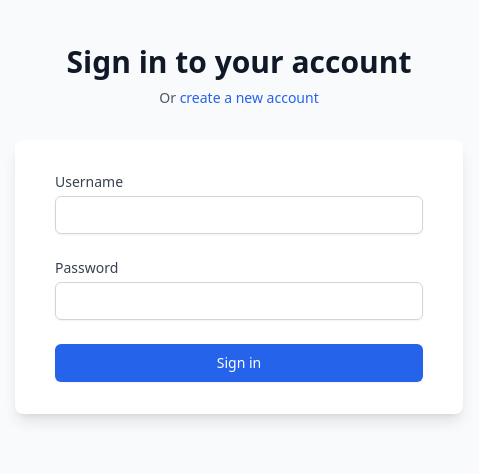
Test case: LoginPage › should handle rate limiting errors
Type "testuser" into the field labelled "Username" at x=239, y=215, box [55,196,423,234]
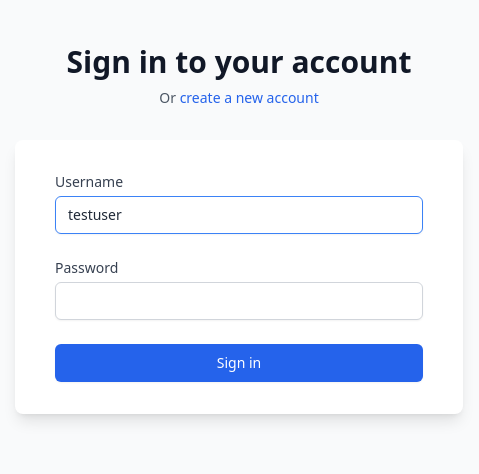
Type "password123" into the password field labelled "Password" at x=239, y=301, box [55,282,423,320]
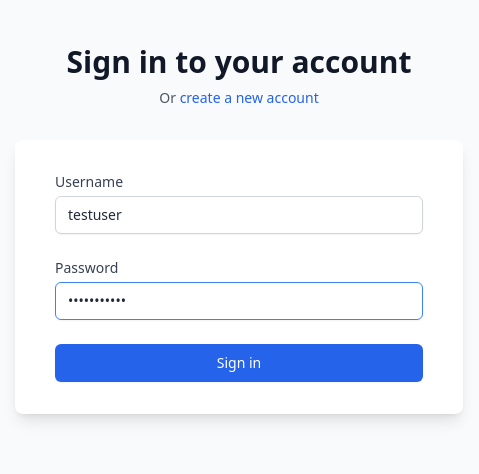
Click the button "Sign in" at x=239, y=363, box [55,344,423,382]
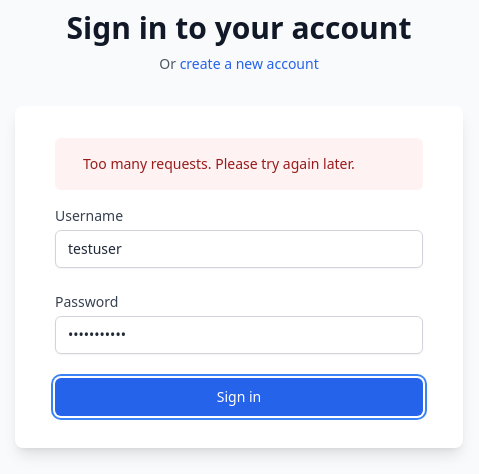
expect the text "Too many requests. Please try again later." is shown: met, box [83,154,355,174]
